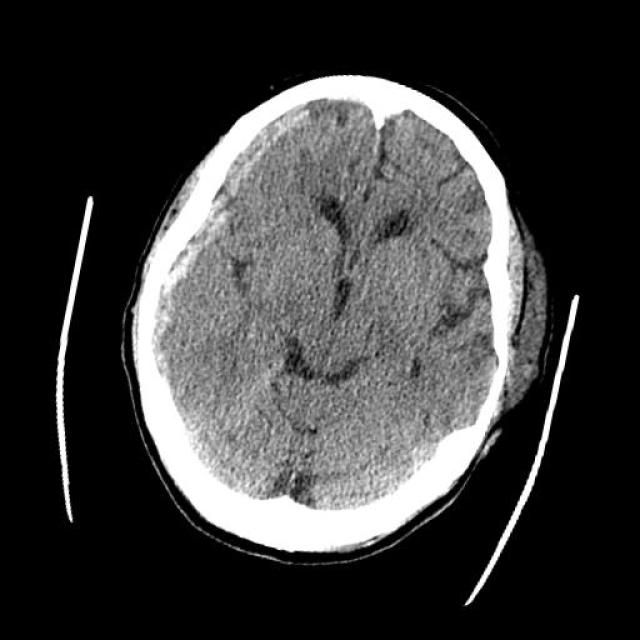Subdural: (110, 59, 326, 374)
